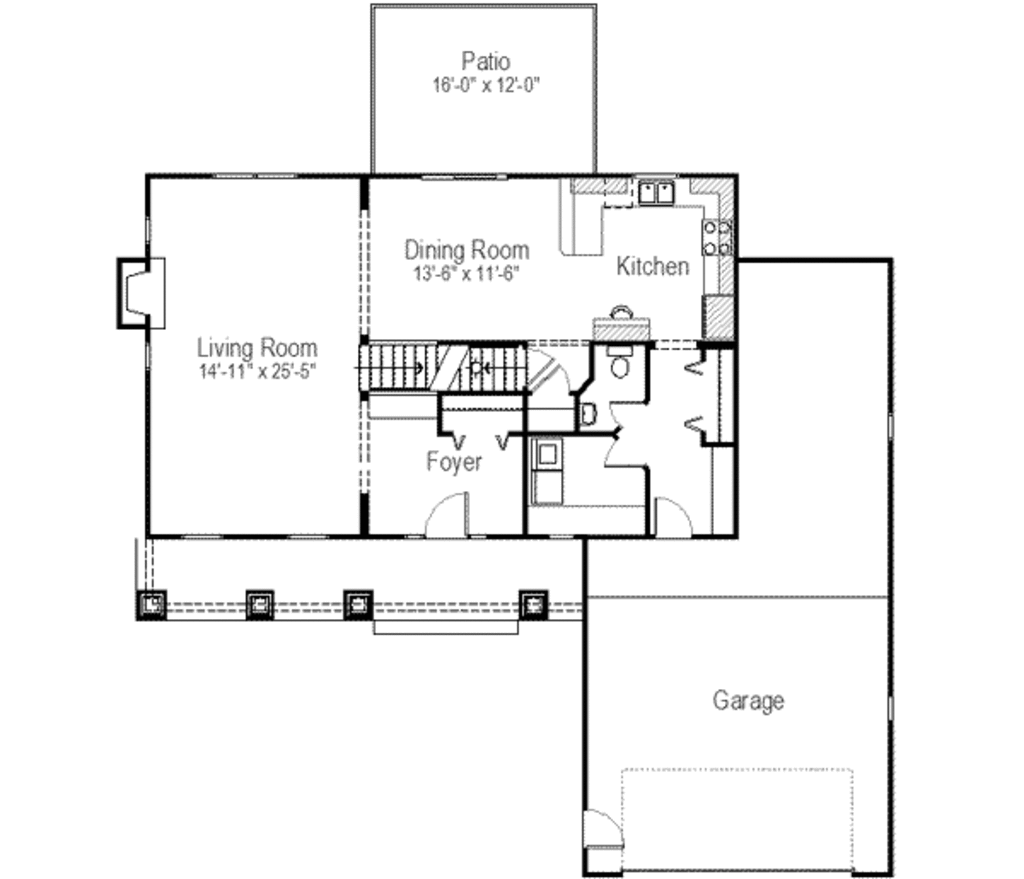door: (419, 491, 475, 545), (645, 486, 695, 542), (601, 390, 656, 433), (530, 365, 579, 405), (583, 809, 627, 851), (597, 439, 656, 470), (527, 349, 556, 382)
large_sink: (607, 343, 639, 387)
stairs: (345, 345, 529, 403)
twin_sink: (639, 181, 685, 210)
window: (215, 169, 307, 185), (419, 171, 509, 183), (289, 526, 328, 547), (183, 529, 221, 546)
